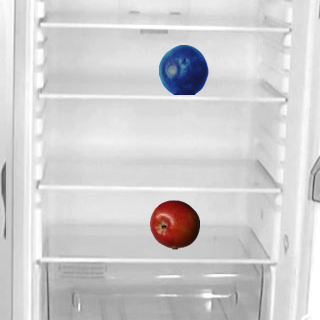Apple Braeburn: (149, 199, 199, 249)
Huckleberry: (158, 44, 208, 94)
